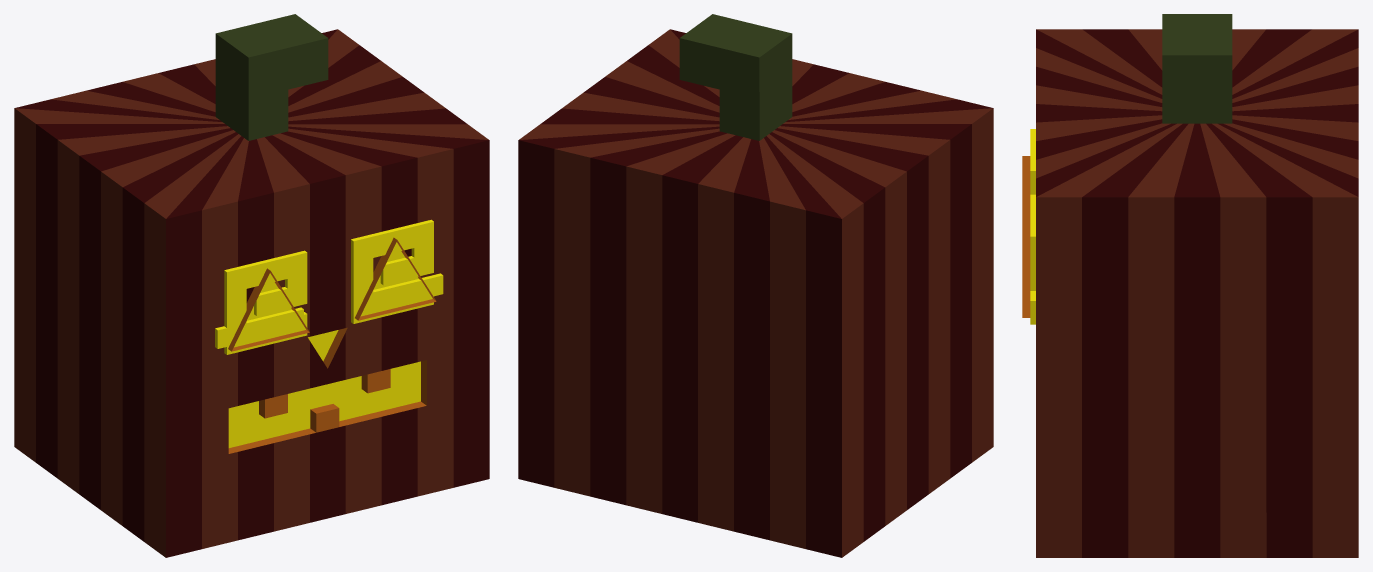
3 views of the same model, side by side, from view 1: azimuth 30°, elevation 25°; view 2: azimuth 150°, elevation 25°; view 3: azimuth 270°, elevation 25° (orthographic). The views are drawn at different scales.
Parts seen in each view (by area): view 1: Ch_48, Ch_48_Eye_03_R, Ch_48_Eye_03_L; view 2: Ch_48; view 3: Ch_48, Ch_48_Eye_03_R.
Part boxes in pixels (x1,y1,x2,y2): Ch_48: [14, 14, 489, 557]; Ch_48_Eye_03_R: [351, 219, 433, 323]; Ch_48_Eye_03_L: [224, 250, 307, 354]; Ch_48: [518, 14, 993, 557]; Ch_48: [1022, 14, 1358, 557]; Ch_48_Eye_03_R: [1030, 194, 1035, 324].
Bounding box in the file's own units: 7.68 × 9.58 × 6.5.
